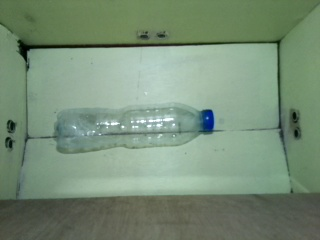bottle: (54, 101, 214, 149)
